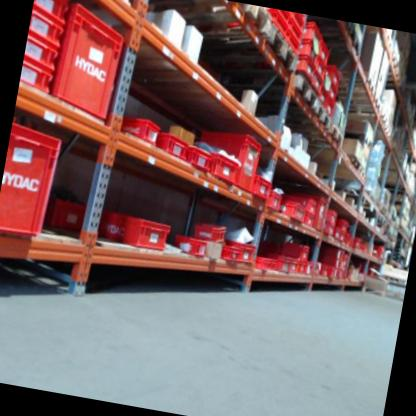pallet: (176, 9, 304, 77), (131, 0, 276, 53), (221, 58, 325, 116), (290, 14, 364, 57), (281, 114, 346, 151), (277, 101, 334, 132), (310, 143, 363, 173), (331, 163, 367, 183)
small_load_carrier: (49, 1, 131, 125), (0, 118, 69, 242), (186, 123, 265, 195), (121, 212, 177, 257), (105, 110, 160, 149), (46, 196, 94, 239), (28, 5, 71, 52), (151, 127, 193, 166), (18, 60, 58, 99), (23, 29, 60, 71), (205, 146, 242, 186), (95, 205, 127, 251), (252, 6, 291, 38), (191, 217, 231, 246), (220, 237, 260, 265), (296, 15, 325, 50), (172, 233, 209, 259), (184, 144, 215, 175), (307, 191, 328, 236), (276, 193, 307, 222), (32, 0, 71, 22), (293, 37, 320, 65), (285, 14, 308, 46), (262, 250, 290, 274), (252, 175, 274, 203), (278, 241, 310, 260), (310, 55, 328, 84), (221, 244, 241, 269), (297, 194, 320, 215), (287, 12, 307, 36), (314, 41, 331, 68), (307, 69, 325, 94), (326, 64, 342, 92), (293, 211, 314, 232), (320, 241, 347, 257), (284, 35, 301, 60), (295, 58, 314, 80), (266, 191, 283, 214), (321, 70, 333, 99), (274, 10, 293, 28), (319, 255, 345, 268), (264, 255, 280, 276), (250, 255, 268, 273), (312, 85, 327, 104), (332, 216, 349, 232), (284, 256, 298, 274), (324, 207, 338, 225), (327, 85, 339, 106), (340, 234, 353, 253), (320, 223, 335, 238), (352, 232, 363, 252), (312, 263, 324, 279), (323, 268, 339, 280), (304, 258, 315, 275), (322, 101, 333, 118), (297, 259, 307, 275), (337, 231, 346, 241), (332, 226, 339, 238)
